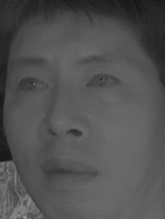eye: (82, 71, 124, 94), (12, 74, 51, 95)
mouth: (41, 153, 100, 191)
